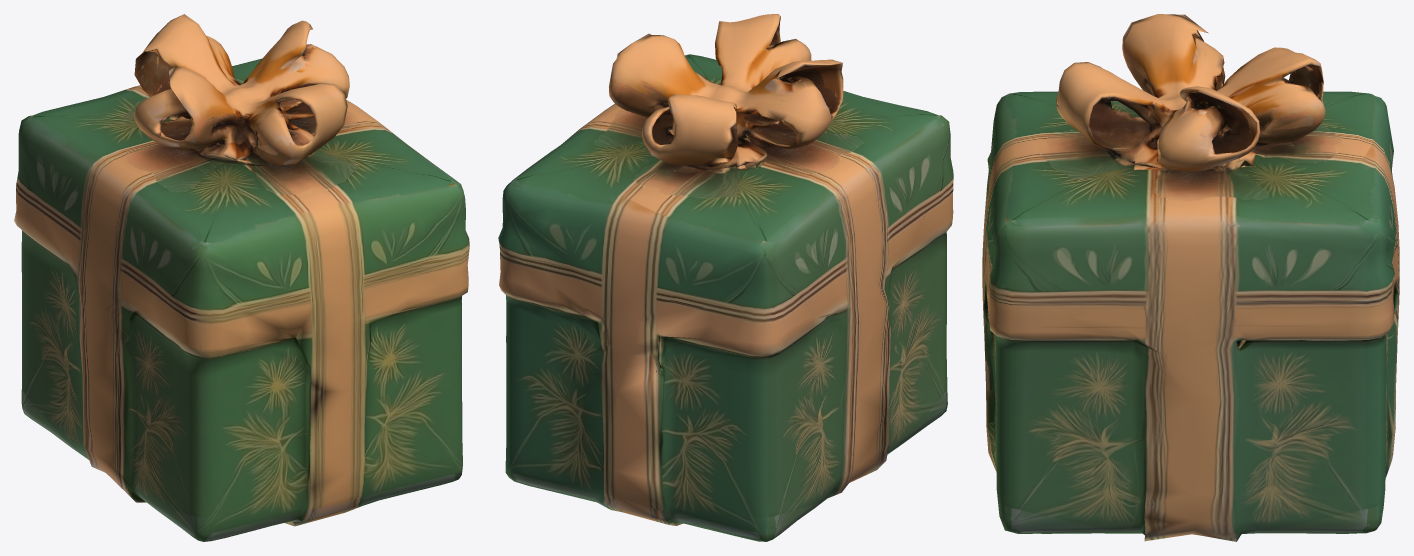
File: Meshy_AI_Golden_Elegance_Gift_0104082336_texture.fbx
3 views of the same model, side by side, from view 1: azimuth 30°, elevation 25°; view 2: azimuth 150°, elevation 25°; view 3: azimuth 270°, elevation 25° (orthographic). The views are drawn at different scales.
Parts seen in each view (by area): view 1: Mesh0; view 2: Mesh0; view 3: Mesh0.
Boxes of the visible parts, x1,y1,x2,y2 form: Mesh0: (14,14,469,541); Mesh0: (498,14,953,541); Mesh0: (982,14,1399,541).
Bounding box in the file's own units: 117 × 159 × 139.
1 material, 1 textured.
